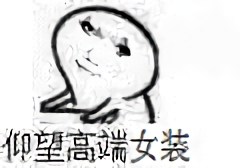dragon: (73, 19, 135, 79)
